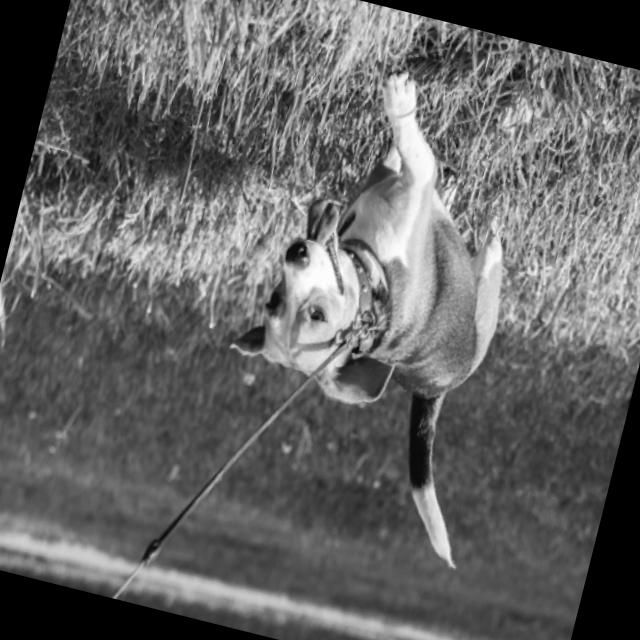dogs: (188, 44, 572, 572)
